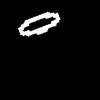chain: (18, 12, 59, 35)
